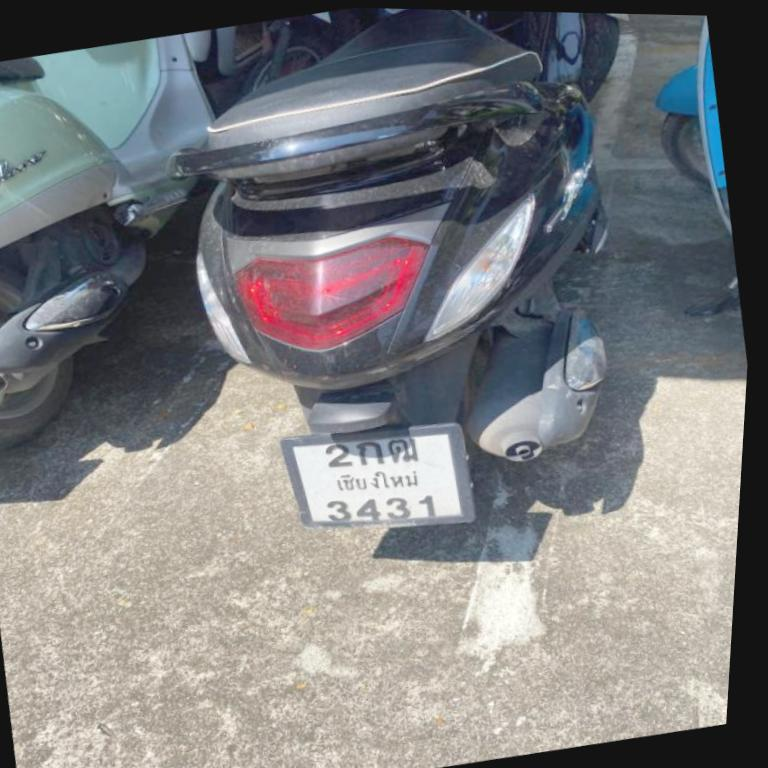license plate: (282, 424, 472, 525)
